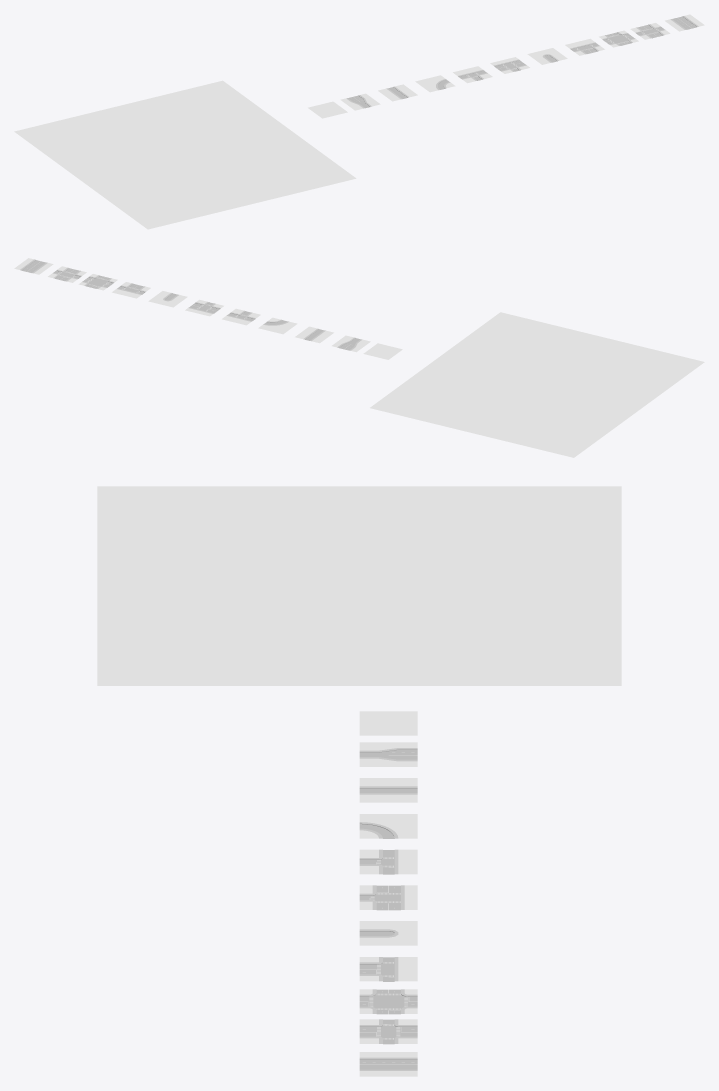
File: ground-2.glb
3 renders of one model, top to bottom at view 1: azimuth 30°, elevation 25°; view 2: azimuth 150°, elevation 25°; view 3: azimuth 270°, elevation 25°, orthographic. The views are drawn at different scales.
Visible parts, largest first — view 1: plane, tile-road-curve, tile-mainroad-road-intersection-t, tile-plain_sand, tile-road-to-mainroad, tile-road-straight, tile-road-mainroad-intersection-t, tile-road-intersection-t, tile-road-end, tile-mainroad-intersection, tile-road-mainroad-intersection, tile-mainroad-straight; view 2: plane, tile-road-to-mainroad, tile-road-mainroad-intersection, tile-road-straight, tile-road-intersection-t, tile-road-end, tile-road-curve, tile-mainroad-straight, tile-plain_sand, tile-road-mainroad-intersection-t, tile-mainroad-intersection, tile-mainroad-road-intersection-t; view 3: plane, tile-road-intersection-t, tile-road-mainroad-intersection-t, tile-mainroad-intersection, tile-road-mainroad-intersection, tile-road-to-mainroad, tile-road-straight, tile-road-end, tile-road-curve, tile-mainroad-straight, tile-plain_sand, tile-mainroad-road-intersection-t.
Part boxes in pixels (x1,y1,x2,y2): plane: (14, 80, 356, 229); tile-road-curve: (415, 75, 455, 92); tile-mainroad-road-intersection-t: (565, 38, 604, 55); tile-plain_sand: (308, 101, 347, 118); tile-road-to-mainroad: (340, 93, 380, 110); tile-road-straight: (378, 84, 417, 101); tile-road-mainroad-intersection-t: (490, 57, 529, 73); tile-road-intersection-t: (453, 66, 492, 83); tile-road-end: (527, 48, 567, 64); tile-mainroad-intersection: (599, 30, 638, 47); tile-road-mainroad-intersection: (630, 23, 670, 39); tile-mainroad-straight: (665, 14, 704, 31); plane: (370, 312, 704, 457); tile-road-to-mainroad: (332, 335, 370, 352); tile-road-mainroad-intersection: (48, 266, 86, 282); tile-road-straight: (295, 326, 333, 343); tile-road-intersection-t: (222, 308, 260, 325); tile-road-end: (148, 291, 187, 307); tile-road-curve: (258, 317, 297, 334); tile-mainroad-straight: (14, 258, 53, 274); tile-plain_sand: (363, 343, 402, 359); tile-road-mainroad-intersection-t: (185, 299, 223, 316); tile-mainroad-intersection: (78, 274, 117, 290); tile-mainroad-road-intersection-t: (112, 282, 150, 298); plane: (97, 486, 621, 685); tile-road-intersection-t: (359, 849, 417, 874); tile-road-mainroad-intersection-t: (359, 885, 417, 910); tile-mainroad-intersection: (359, 989, 417, 1014); tile-road-mainroad-intersection: (359, 1019, 417, 1044); tile-road-to-mainroad: (359, 742, 417, 766); tile-road-straight: (359, 778, 417, 802); tile-road-end: (359, 921, 417, 945); tile-road-curve: (359, 814, 417, 838); tile-mainroad-straight: (359, 1052, 417, 1076); tile-plain_sand: (359, 711, 417, 735); tile-mainroad-road-intersection-t: (359, 957, 417, 981).
Bounding box in the file's own units: 727 × 3.33 × 270.
Materials: 2 (2 with a texture image).
